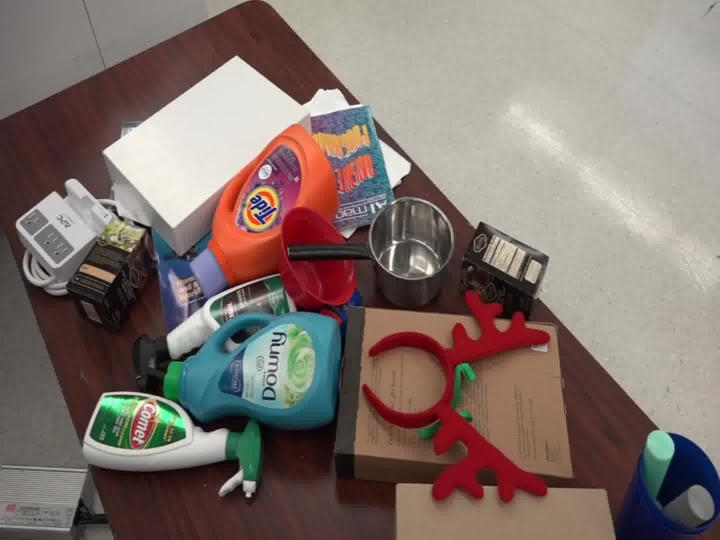tide: (179, 112, 351, 290)
